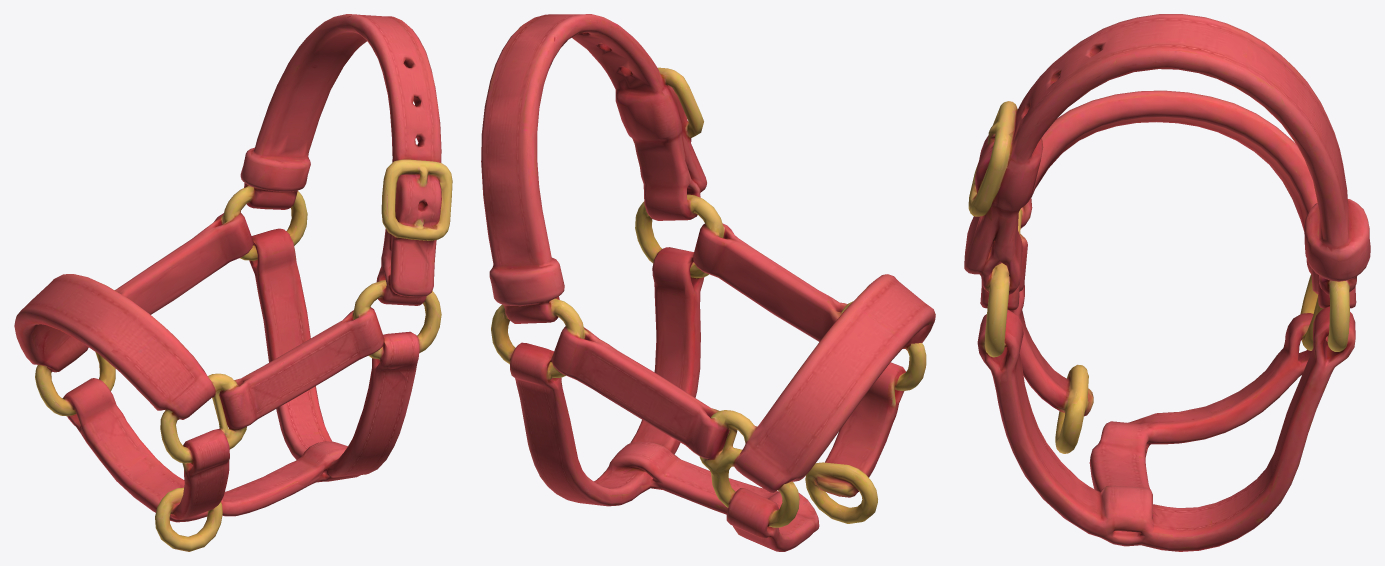
The picture shows the model from 3 angles, left to right: view 1: azimuth 30°, elevation 25°; view 2: azimuth 150°, elevation 25°; view 3: azimuth 270°, elevation 25°; orthographic projection. The views are drawn at different scales.
Parts seen in each view (by area): view 1: halter; view 2: halter; view 3: halter.
Part boxes in pixels (bbox=[...]): halter: bbox=[14, 14, 452, 551]; halter: bbox=[481, 14, 935, 551]; halter: bbox=[964, 14, 1370, 551].
Size of the model in its own units: 0.2616 by 0.3121 by 0.2017.
Materials: 1 (1 with a texture image).
